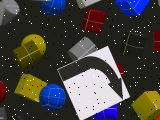Right: (58, 46, 130, 120)
